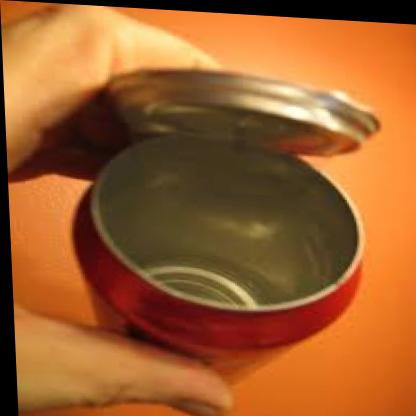Aerosols: (62, 46, 395, 376)
